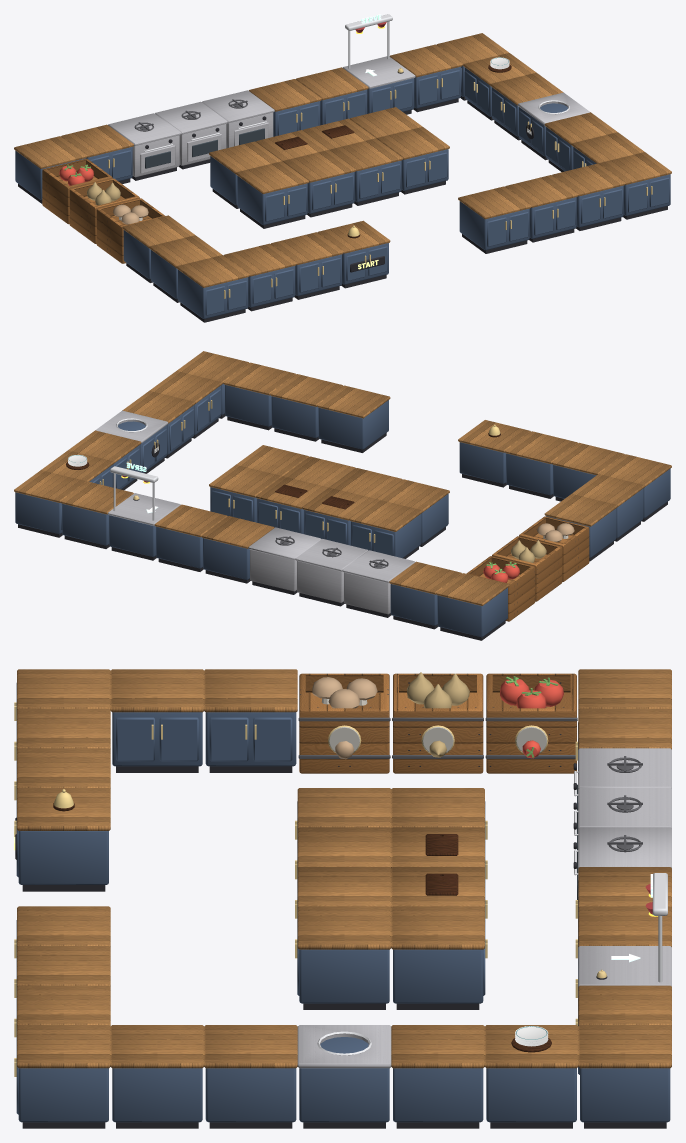
File: kr_layA_st.glb
The picture shows the model from 3 angles, top to bottom: view 1: azimuth 30°, elevation 25°; view 2: azimuth 150°, elevation 25°; view 3: azimuth 270°, elevation 25°; orthographic projection. The views are drawn at different scales.
Visible parts, largest first — view 1: vc_m0_r4, kr_layA_st_butcher, kr_layA_st_steel, kr_layA_st_planks, vc_m8_r2, vc_m0_r2, kr_layA_st_darkwood, vc_m0_r6; view 2: vc_m0_r4, kr_layA_st_butcher, kr_layA_st_steel, kr_layA_st_planks, vc_m8_r2, vc_m0_r2, kr_layA_st_darkwood, vc_m0_r6; view 3: kr_layA_st_butcher, vc_m0_r4, kr_layA_st_planks, kr_layA_st_steel, vc_m8_r2, vc_m8_r4, vc_m0_r2, vc_m0_r6, kr_layA_st_darkwood.
Part boxes in pixels (<box>): vc_m0_r4: <box>15,22,670,322</box>; kr_layA_st_butcher: <box>14,33,671,287</box>; kr_layA_st_steel: <box>108,56,590,177</box>; kr_layA_st_planks: <box>42,158,164,263</box>; vc_m8_r2: <box>108,14,652,298</box>; vc_m0_r2: <box>59,57,531,185</box>; kr_layA_st_darkwood: <box>275,64,511,238</box>; vc_m0_r6: <box>64,164,148,224</box>; vc_m0_r4: <box>15,384,670,640</box>; kr_layA_st_butcher: <box>14,351,671,605</box>; kr_layA_st_steel: <box>95,410,415,614</box>; kr_layA_st_planks: <box>466,516,589,621</box>; vc_m8_r2: <box>99,400,500,542</box>; vc_m0_r2: <box>68,446,519,582</box>; kr_layA_st_darkwood: <box>66,433,500,509</box>; vc_m0_r6: <box>486,523,574,574</box>; kr_layA_st_butcher: <box>17,669,671,1068</box>; vc_m0_r4: <box>15,672,670,1128</box>; kr_layA_st_planks: <box>299,673,576,773</box>; kr_layA_st_steel: <box>297,748,671,1068</box>; vc_m8_r2: <box>14,702,667,1076</box>; vc_m8_r4: <box>298,717,642,852</box>; vc_m0_r2: <box>500,678,563,1046</box>; vc_m0_r6: <box>312,676,558,759</box>; kr_layA_st_darkwood: <box>53,803,551,1052</box>.
Size of the model in its own units: 12 by 2.14 by 8.44.
13 materials, 4 textured.
